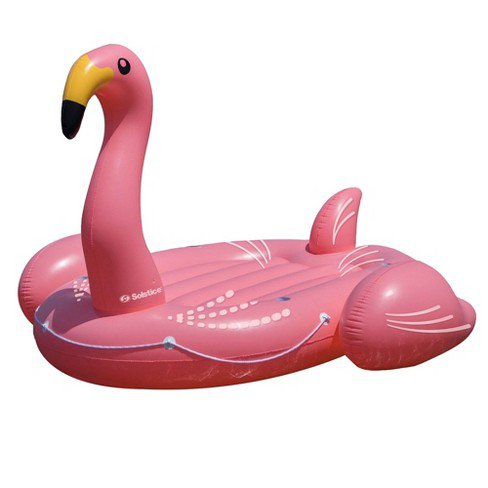Flamingo: (17, 42, 477, 392)
